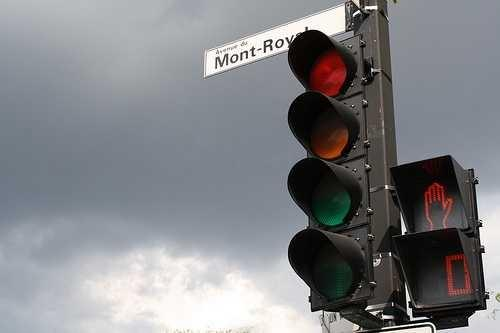green: (292, 166, 362, 231)
red: (411, 240, 481, 309), (407, 168, 468, 235), (293, 40, 357, 103)
